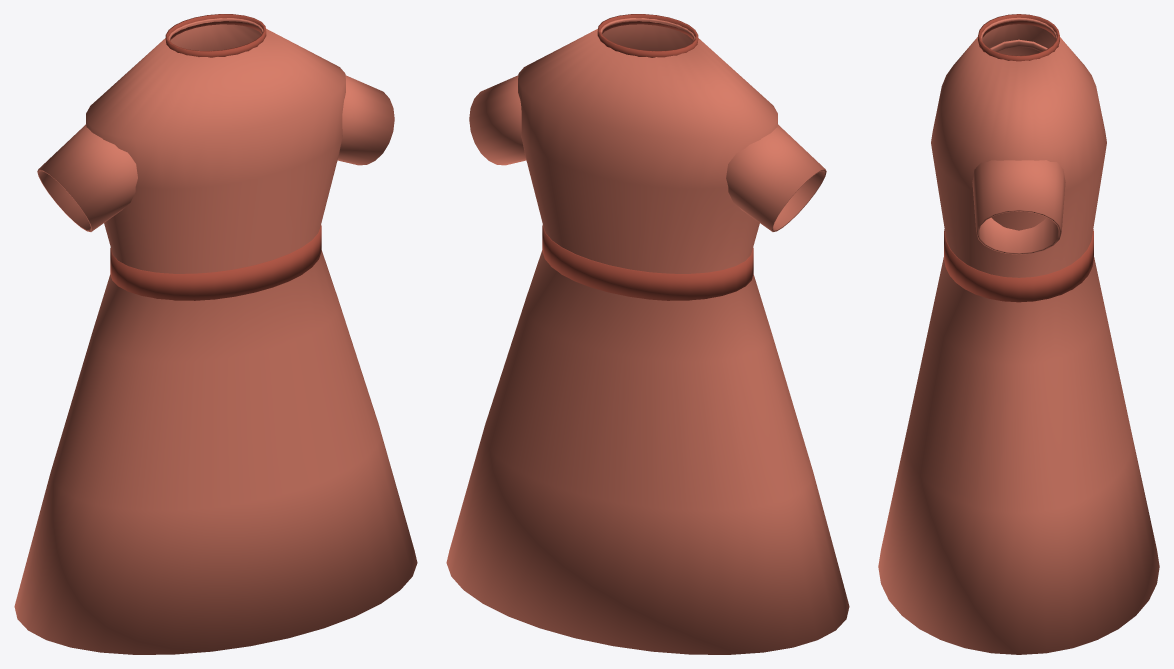
File: dress_a_line.glb
The picture shows the model from 3 angles, left to right: view 1: azimuth 30°, elevation 25°; view 2: azimuth 150°, elevation 25°; view 3: azimuth 270°, elevation 25°; orthographic projection. The views are drawn at different scales.
Visible parts, largest first — view 1: ALine_Dress_Body_And_Skirt, ALine_Dress_Cap_Sleeve, ALine_Dress_Waist_Band, ALine_Dress_Cap_Sleeve.001, ALine_Dress_Neck_Edge; view 2: ALine_Dress_Body_And_Skirt, ALine_Dress_Cap_Sleeve, ALine_Dress_Waist_Band, ALine_Dress_Cap_Sleeve.001, ALine_Dress_Neck_Edge; view 3: ALine_Dress_Body_And_Skirt, ALine_Dress_Cap_Sleeve.001, ALine_Dress_Waist_Band, ALine_Dress_Neck_Edge.
Part boxes in pixels (<box>): ALine_Dress_Body_And_Skirt: <box>14,18,417,654</box>; ALine_Dress_Cap_Sleeve: <box>37,124,137,231</box>; ALine_Dress_Waist_Band: <box>110,224,321,300</box>; ALine_Dress_Cap_Sleeve.001: <box>337,75,394,165</box>; ALine_Dress_Neck_Edge: <box>165,14,266,57</box>; ALine_Dress_Body_And_Skirt: <box>446,18,849,654</box>; ALine_Dress_Cap_Sleeve: <box>726,124,826,231</box>; ALine_Dress_Waist_Band: <box>542,224,753,300</box>; ALine_Dress_Cap_Sleeve.001: <box>469,75,526,165</box>; ALine_Dress_Neck_Edge: <box>597,14,698,57</box>; ALine_Dress_Body_And_Skirt: <box>878,17,1159,654</box>; ALine_Dress_Cap_Sleeve.001: <box>972,160,1065,254</box>; ALine_Dress_Waist_Band: <box>944,229,1093,302</box>; ALine_Dress_Neck_Edge: <box>978,14,1059,61</box>.
Size of the model in its own units: 0.6739 by 0.9465 by 0.4539.
